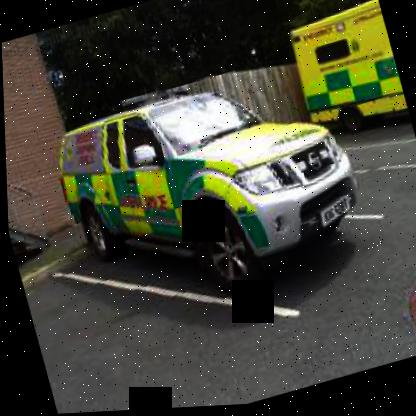emergency: (12, 36, 385, 365)
